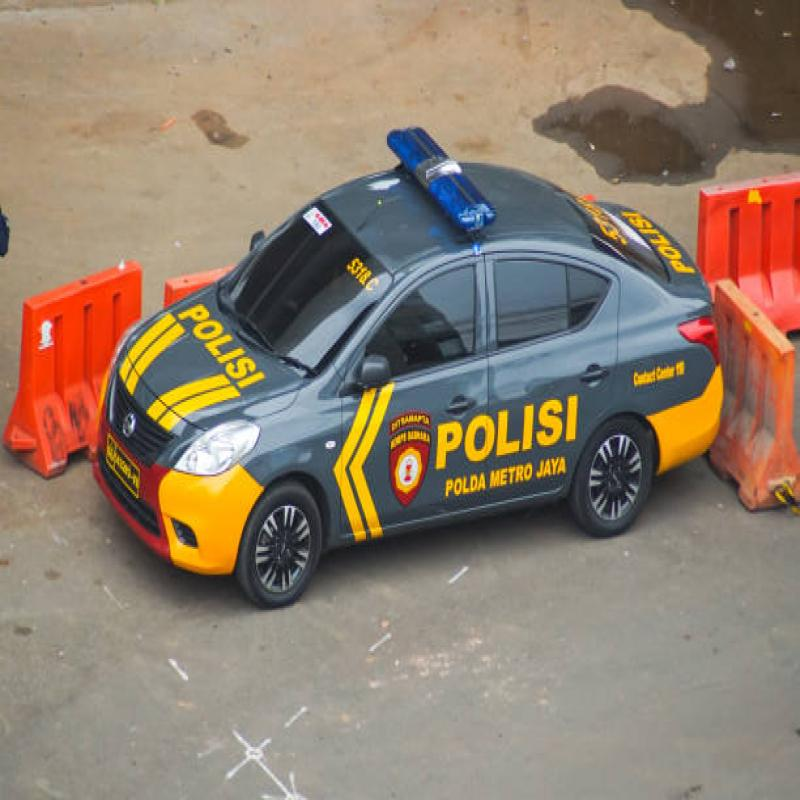AmbulanceSiren: (389, 111, 501, 257)
